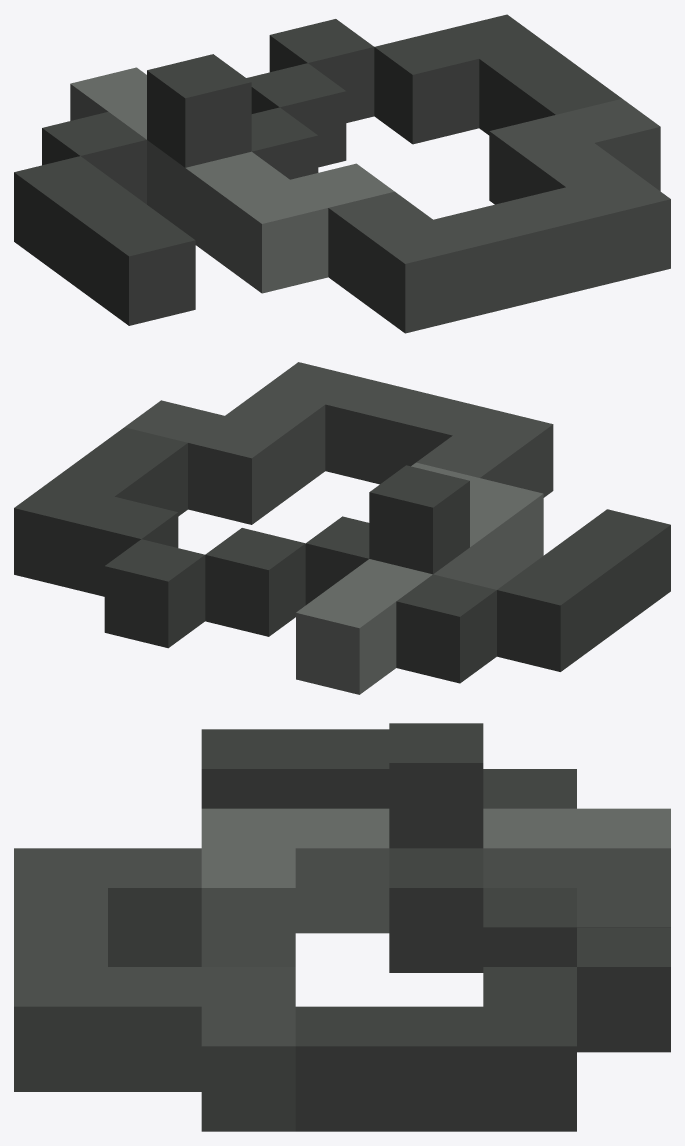
Rendered from rope.obj.
The picture shows the model from 3 angles, top to bottom: view 1: azimuth 30°, elevation 25°; view 2: azimuth 150°, elevation 25°; view 3: azimuth 270°, elevation 25°; orthographic projection. The views are drawn at different scales.
Bounding box in the file's own units: 0.8 × 0.2 × 0.7.
1 material, 1 textured.
